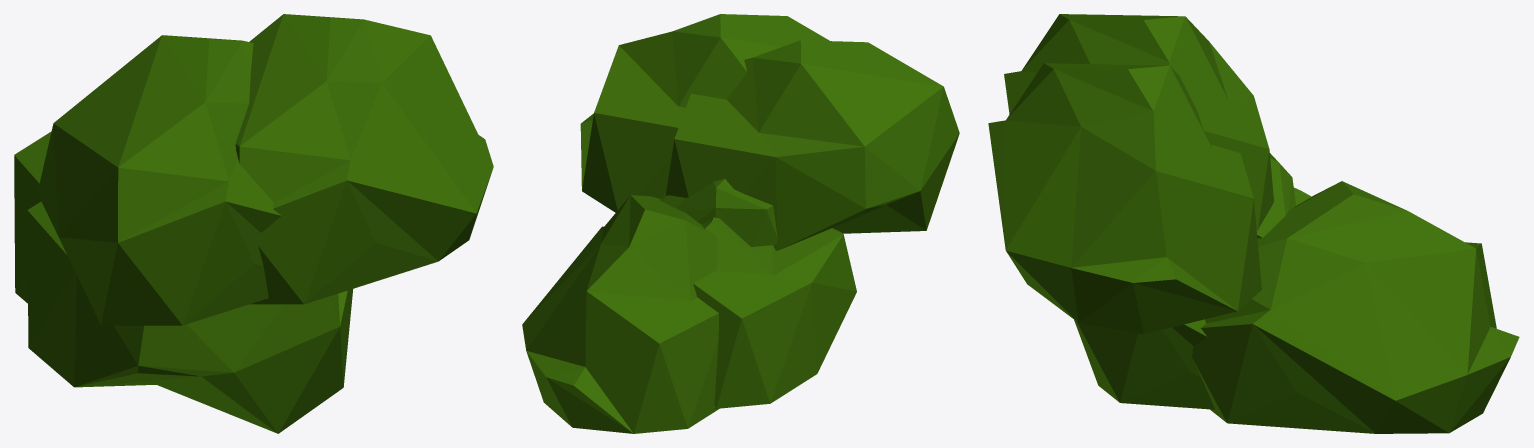
The model's file is bush_2.FBX.
3 views of the same model, side by side, from view 1: azimuth 30°, elevation 25°; view 2: azimuth 150°, elevation 25°; view 3: azimuth 270°, elevation 25° (orthographic). The views are drawn at different scales.
Parts seen in each view (by area): view 1: bush_2; view 2: bush_2; view 3: bush_2.
Part boxes in pixels (x1,y1,x2,y2): bush_2: (14,14,493,433); bush_2: (522,14,959,433); bush_2: (988,14,1519,433).
Bounding box in the file's own units: 731 × 653 × 889.
